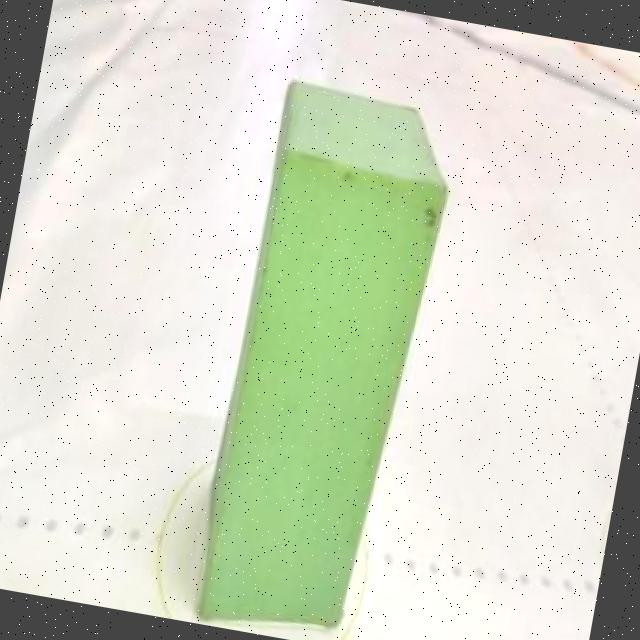greenbox: (183, 74, 462, 640)
